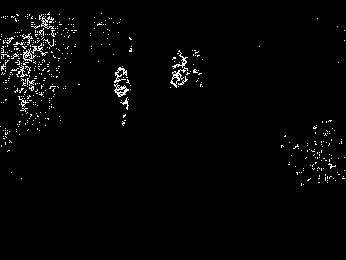person: (112, 65, 133, 127), (191, 49, 205, 90)
